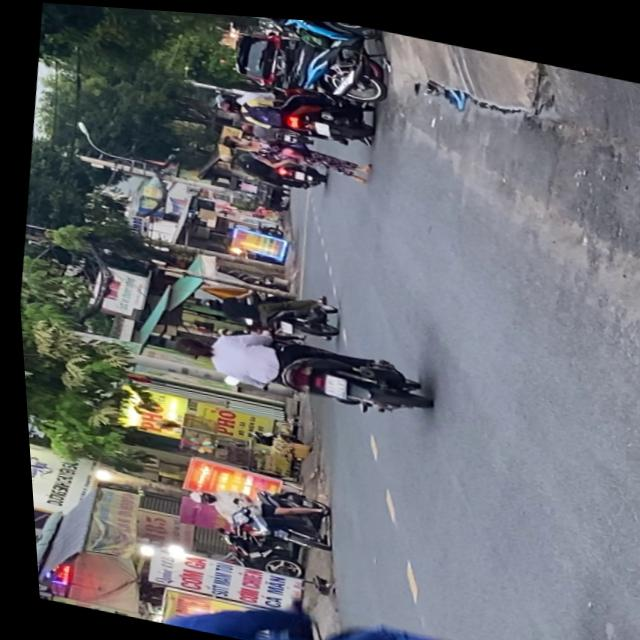helmet: (179, 488, 208, 506), (211, 95, 240, 112), (211, 88, 237, 104), (194, 294, 216, 308)
licenseplate: (46, 552, 633, 640), (159, 311, 429, 422), (207, 68, 379, 148), (174, 468, 330, 552), (190, 272, 339, 342)
motorcyclist: (163, 332, 208, 360)
nohelmet: (316, 370, 342, 394), (311, 117, 330, 132), (274, 318, 288, 331)
